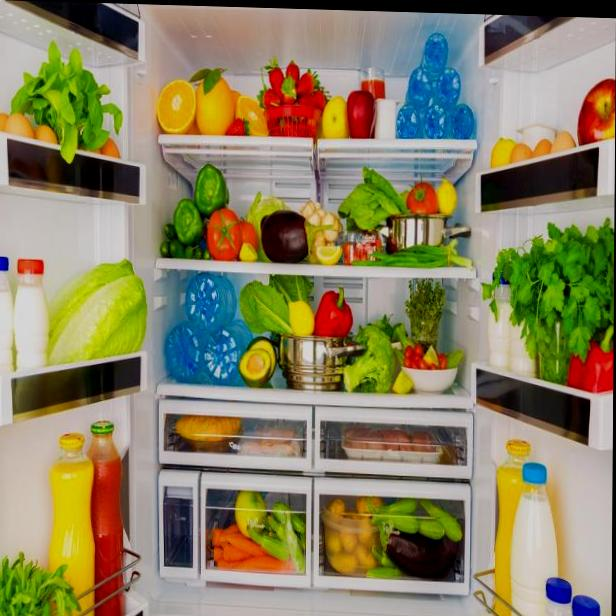apple: (579, 80, 616, 137)
aubergine: (381, 533, 459, 577), (261, 211, 319, 261)
broccoli: (345, 326, 393, 392)
eggs: (0, 109, 34, 141), (552, 133, 577, 150), (511, 142, 532, 160), (534, 139, 552, 155)
green bell pepper: (196, 164, 230, 210), (174, 200, 206, 244)
lemon: (289, 302, 315, 336), (437, 179, 457, 214), (492, 136, 513, 166), (393, 368, 413, 395), (316, 246, 342, 265), (423, 346, 439, 368), (240, 242, 258, 261)
lettuce: (51, 260, 146, 363)
milk: (514, 463, 556, 616), (15, 258, 49, 373), (0, 254, 15, 381)
orange: (194, 70, 233, 136), (159, 80, 197, 131), (237, 94, 269, 136)
parsley: (514, 227, 614, 335)
potato: (356, 496, 382, 516), (339, 529, 359, 554), (356, 545, 375, 567), (328, 500, 345, 522)
red bell pepper: (572, 335, 614, 389), (315, 291, 352, 336)
spring onion: (379, 244, 470, 267)
strawberries: (267, 61, 284, 96), (296, 71, 319, 94), (226, 117, 249, 135), (259, 87, 280, 106), (286, 61, 300, 86), (283, 77, 297, 102), (313, 89, 329, 105)
tomato: (208, 209, 241, 260), (407, 182, 438, 215), (241, 218, 259, 245), (343, 240, 353, 256), (357, 240, 364, 254)
